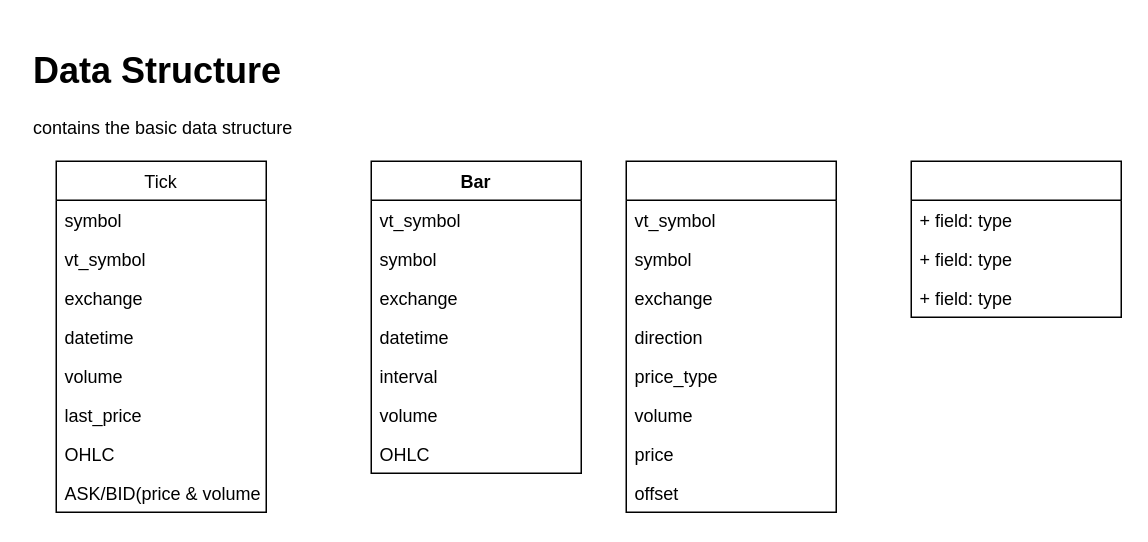
Image size: 1148x542. Some labels were removed from this diagram. Here are the shapes that lost their labels. From the top down, the box of each, then its label:
(910, 160, 1121, 317): Classname
(625, 160, 836, 512): Order
